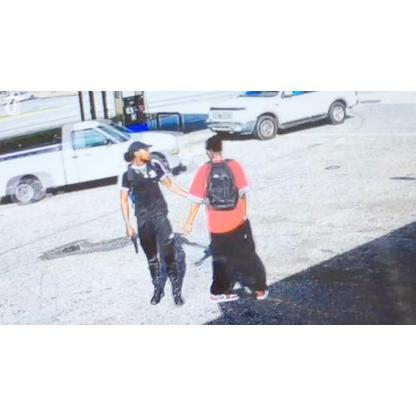gun: (124, 232, 138, 254)
